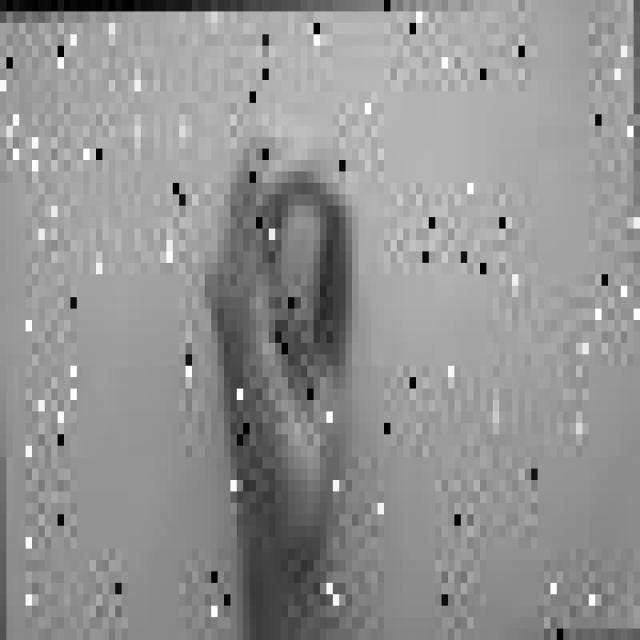O: (205, 103, 365, 537)
